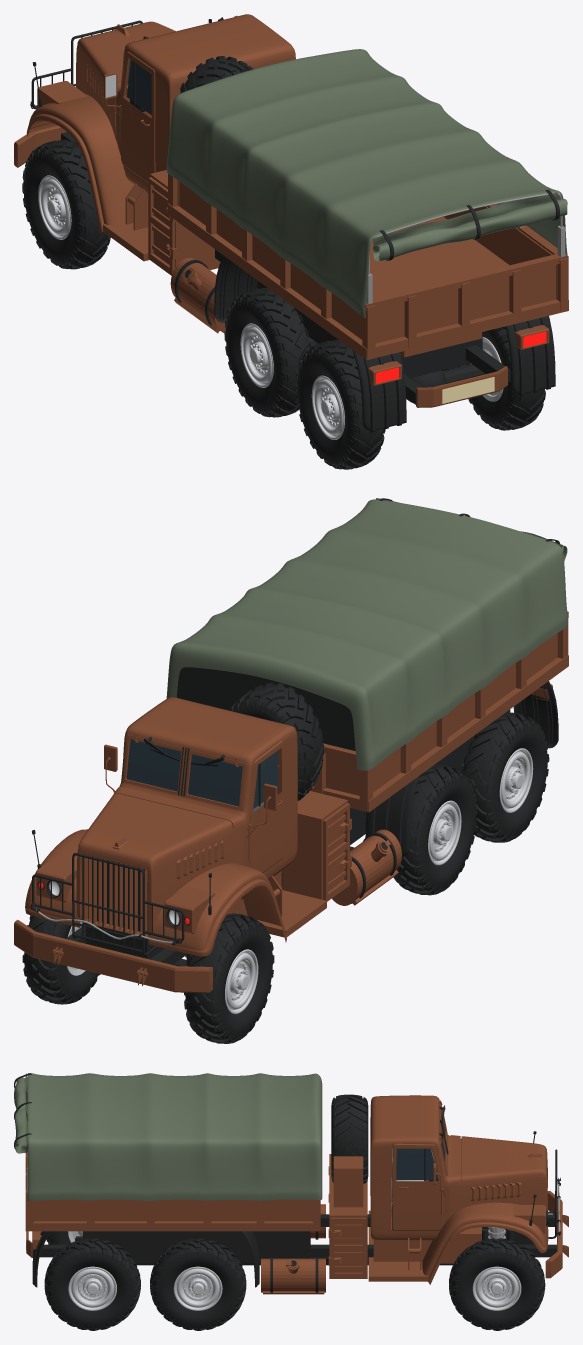
File: kraz.glb
The picture shows the model from 3 angles, top to bottom: view 1: azimuth 30°, elevation 25°; view 2: azimuth 150°, elevation 25°; view 3: azimuth 270°, elevation 25°; orthographic projection. The views are drawn at different scales.
Visible parts, largest first — view 1: body001, body001_9, body001_6, body001_4, body001_7, body001_8, body001_3, body001_2; view 2: body001, body001_9, body001_6, body001_4, body001_7, body001_8; view 3: body001, body001_9, body001_6, body001_4, body001_7, body001_8, body001_3.
Part boxes in pixels (<box>): body001: <box>14,14,568,407</box>; body001_9: <box>166,49,567,317</box>; body001_6: <box>22,56,545,469</box>; body001_4: <box>30,17,559,432</box>; body001_7: <box>38,175,503,439</box>; body001_8: <box>126,59,151,114</box>; body001_3: <box>366,193,565,304</box>; body001_2: <box>442,377,494,403</box>; body001: <box>14,611,568,992</box>; body001_9: <box>166,498,567,770</box>; body001_6: <box>22,682,549,1043</box>; body001_4: <box>30,498,559,966</box>; body001_7: <box>66,748,533,1014</box>; body001_8: <box>126,739,278,808</box>; body001: <box>25,1095,568,1294</box>; body001_9: <box>14,1073,322,1200</box>; body001_6: <box>44,1094,545,1330</box>; body001_4: <box>14,1073,560,1292</box>; body001_7: <box>68,1231,521,1310</box>; body001_8: <box>396,1113,445,1179</box>; body001_3: <box>27,1147,560,1239</box>.
Bounding box in the file's own units: 2.55 × 3.16 × 8.
